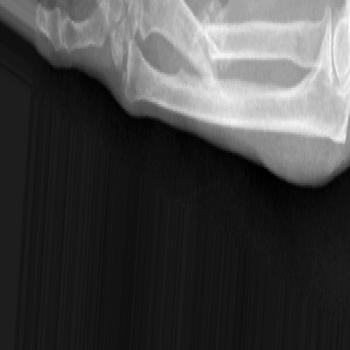Fracture: (194, 4, 216, 88)
